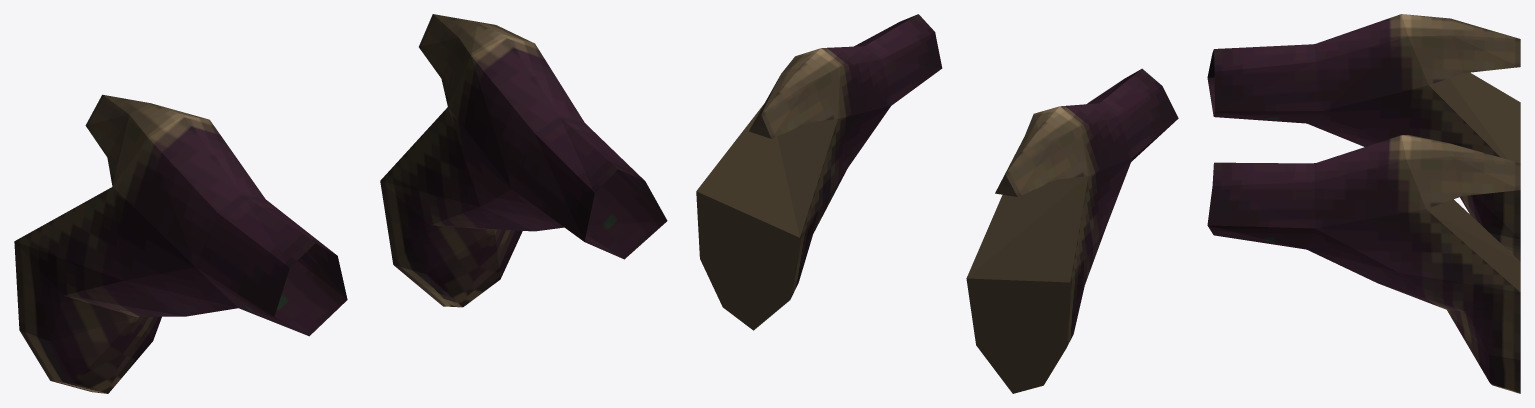
The model's file is priest_shoe_female_49750.obj.
3 renders of one model, left to right at view 1: azimuth 30°, elevation 25°; view 2: azimuth 150°, elevation 25°; view 3: azimuth 270°, elevation 25°, orthographic. The views are drawn at different scales.
Parts seen in each view (by area): view 1: priest_shoe_female_49750; view 2: priest_shoe_female_49750; view 3: priest_shoe_female_49750.
Boxes of the visible parts, x1,y1,x2,y2 form: priest_shoe_female_49750: (14, 14, 667, 393); priest_shoe_female_49750: (696, 14, 1178, 393); priest_shoe_female_49750: (1207, 14, 1520, 393).
Size of the model in its own units: 18.35 by 11.41 by 12.77.
1 material, 1 textured.
